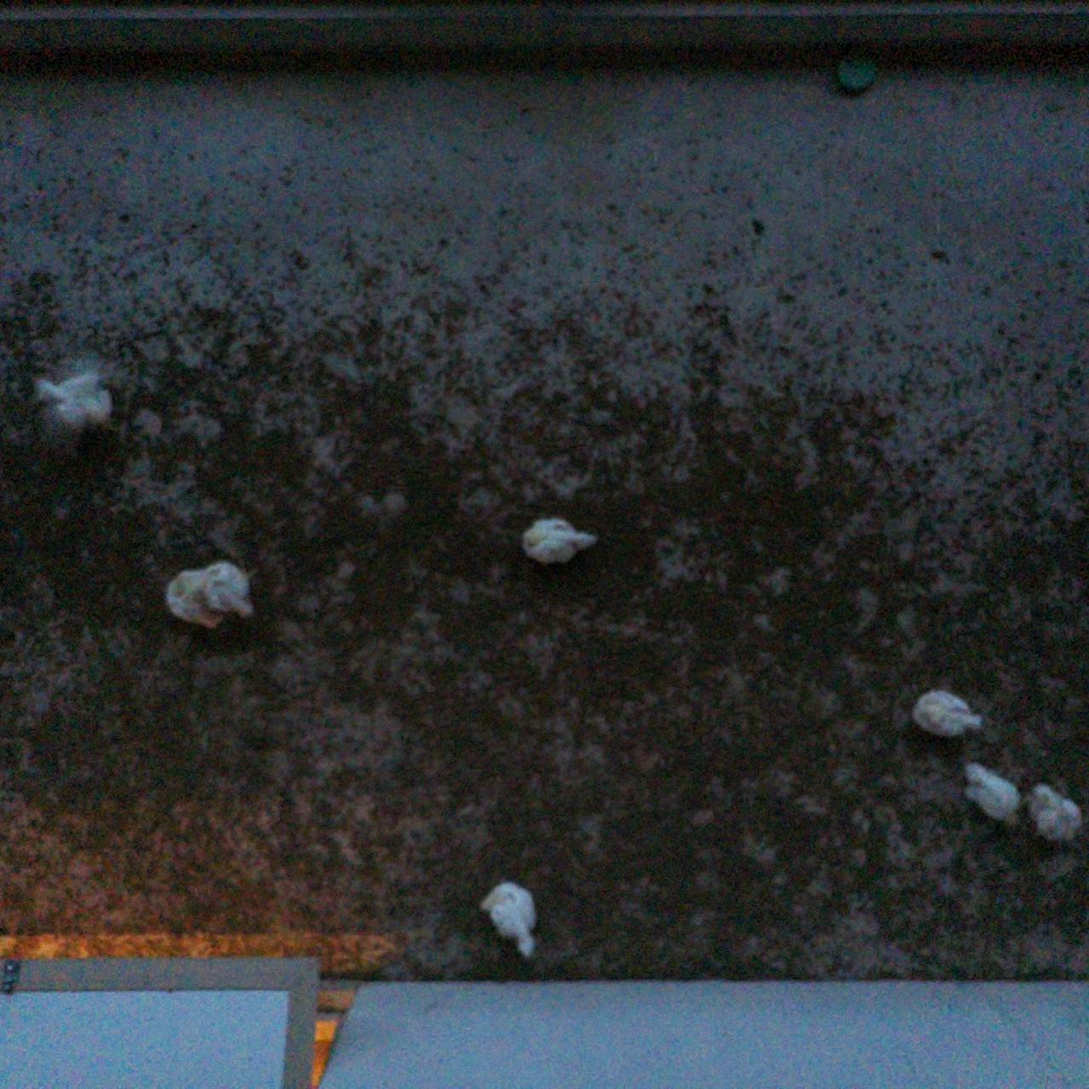chicken: (29, 369, 116, 437), (479, 878, 541, 964), (194, 553, 262, 623), (521, 512, 602, 570), (910, 686, 988, 743), (962, 760, 1027, 828), (1024, 779, 1087, 846), (161, 567, 222, 633)
